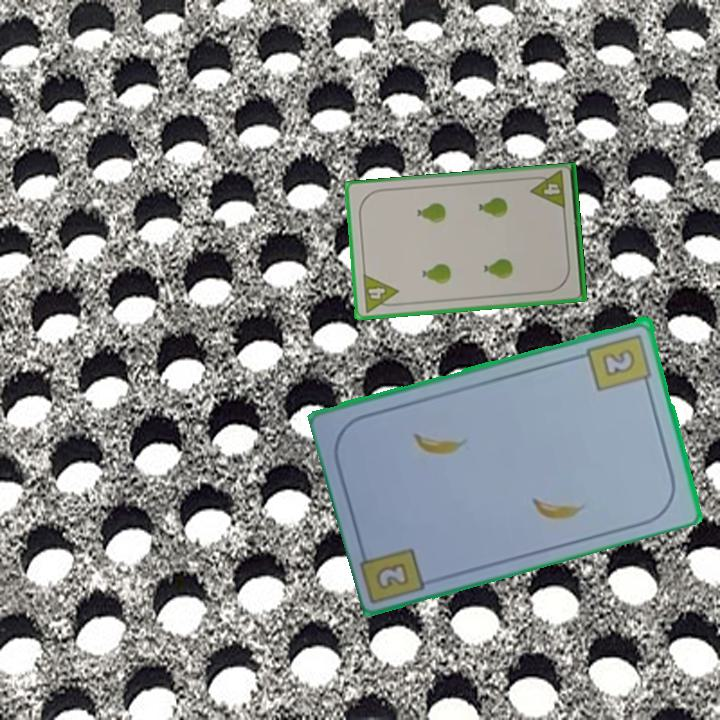2b: (584, 329, 655, 394), (375, 561, 409, 589)
4p: (359, 271, 402, 315), (527, 168, 568, 213)
